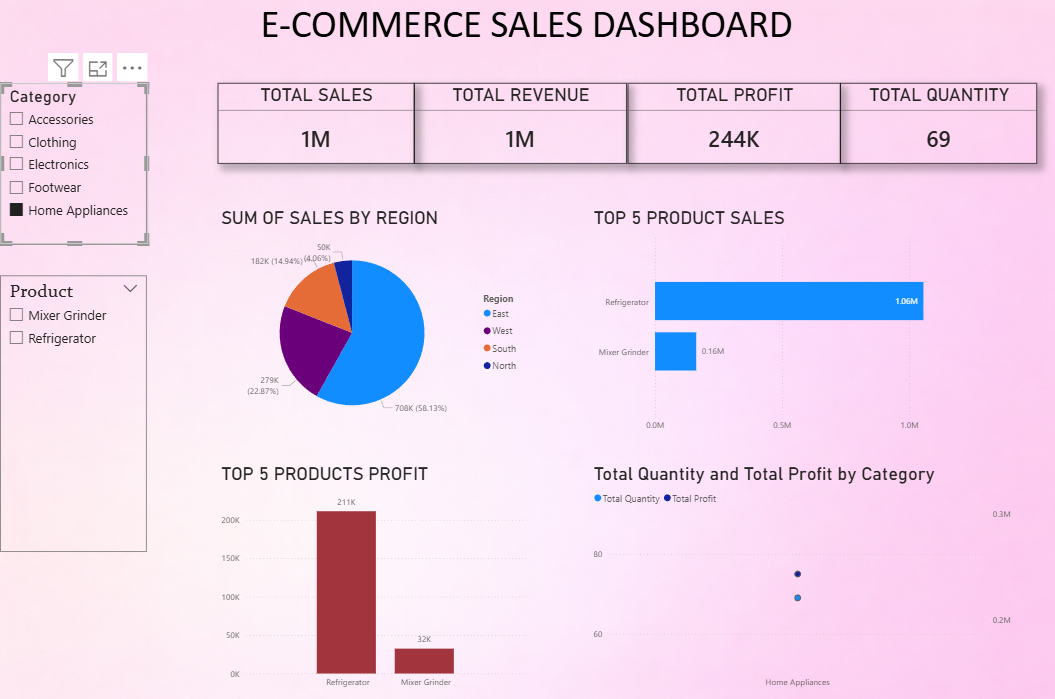

The page's visual inventory and layout, read from the dashboard file:
{"tool":"powerbi","page":{"name":"Page 1","canvas":[1920,1080],"ordinal":0},"visuals":[{"type":"textbox","box":[198,28,1524,84],"z":0},{"type":"slicer","fields":{"Values":["Sheet1.Category"]},"box":[198,152,212,234],"z":1},{"type":"slicer","fields":{"Values":["Sheet1.Product"]},"box":[198,430,212,400],"z":2},{"type":"pieChart","title":"SUM OF SALES BY REGION","fields":{"Category":["Sheet1.Region"],"Y":["Sum(Sheet1.Sales)"]},"box":[511.7,331.7,453.3,335],"z":3},{"type":"cardVisual","title":"TOTAL SALES","fields":{"Data":["Sheet1.Total Sales"]},"box":[511.7,151.7,285,116.7],"z":4},{"type":"cardVisual","title":"TOTAL REVENUE","fields":{"Data":["Sheet1.Total Revenue"]},"box":[796.7,151.7,308.3,116.7],"z":5},{"type":"cardVisual","title":"TOTAL QUANTITY","fields":{"Data":["Sheet1.Total Quantity"]},"box":[1413.3,151.7,285,116.7],"z":6},{"type":"cardVisual","title":"TOTAL PROFIT","fields":{"Data":["Sheet1.Total Profit"]},"box":[1105,151.7,308.3,116.7],"z":7},{"type":"clusteredBarChart","title":"TOP 5 PRODUCT SALES","fields":{"Category":["Sheet1.Product"],"Y":["Sheet1.Total Sales"]},"box":[1051.7,331.7,528.3,335],"z":8},{"type":"clusteredColumnChart","title":"TOP 5 PRODUCTS PROFIT","fields":{"Category":["Sheet1.Product"],"Y":["Sheet1.Total Profit"]},"box":[511.7,701.7,453.3,335],"z":9},{"type":"lineChart","fields":{"Category":["Sheet1.Category"],"Y2":["Sheet1.Total Profit"],"Y":["Sheet1.Total Quantity"]},"box":[1051.7,701.7,615,335],"z":10}]}

Visuals, with their boxes on the page's 1920x1080 design canvas (x1, y1, x2, y2). These are canvas units, not pixel positions in the 1055x699 screenshot, which may show the page scaled, cropped or inside an application window:
textbox: <box>198,28,1722,112</box>
slicer - Sheet1.Category: <box>198,152,410,386</box>
slicer - Sheet1.Product: <box>198,430,410,830</box>
"SUM OF SALES BY REGION" pieChart: <box>512,332,965,667</box>
"TOTAL SALES" cardVisual: <box>512,152,797,268</box>
"TOTAL REVENUE" cardVisual: <box>797,152,1105,268</box>
"TOTAL QUANTITY" cardVisual: <box>1413,152,1698,268</box>
"TOTAL PROFIT" cardVisual: <box>1105,152,1413,268</box>
"TOP 5 PRODUCT SALES" clusteredBarChart: <box>1052,332,1580,667</box>
"TOP 5 PRODUCTS PROFIT" clusteredColumnChart: <box>512,702,965,1037</box>
lineChart - Sheet1.Category x Sheet1.Total Profit: <box>1052,702,1667,1037</box>
